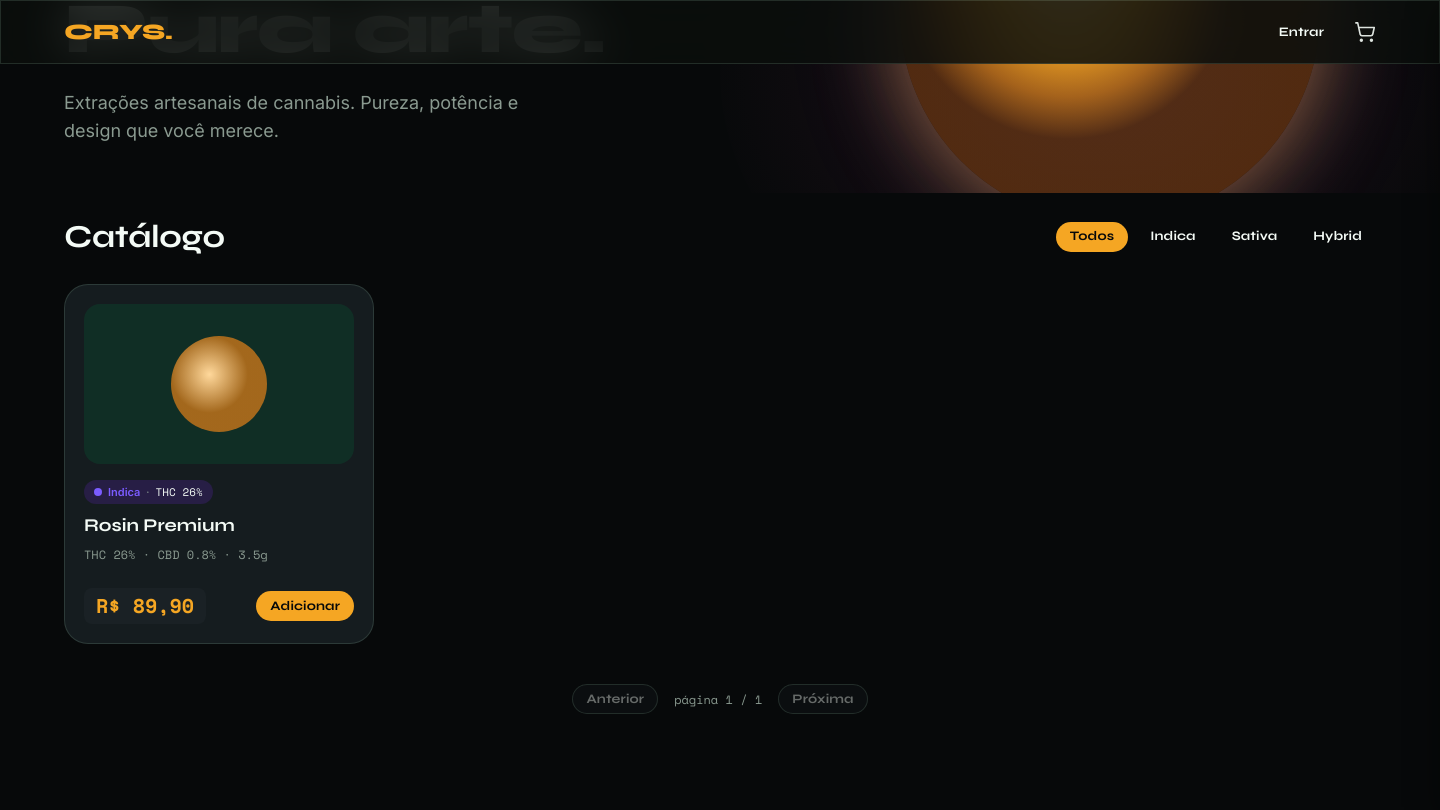
Test: storefront end-to-end (mocked API) › browses, logs in, checks out, and tracks an order to CONFIRMED
The image size is (1440, 810).
(page scrolled)
expect the text "Rosin Premium" is shown: met, box top-left (84, 514), bottom-right (235, 536)
// Add to cart.
Click the button "Adicionar".
click(305, 606)  # box top-left (256, 591), bottom-right (354, 621)
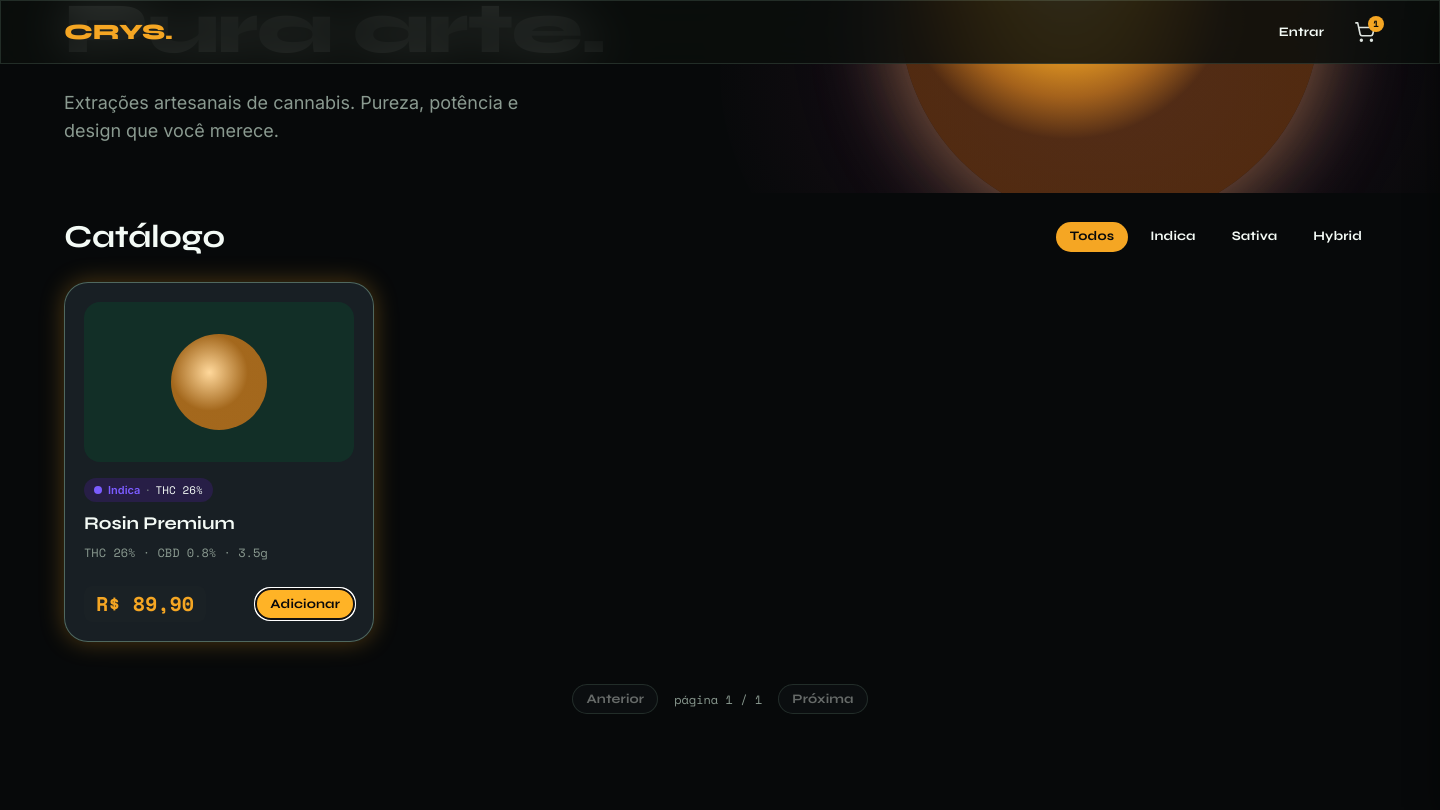
// Log in (demo).
Click the button "Entrar".
click(1301, 32)  # box top-left (1265, 17), bottom-right (1338, 47)
(page scrolled)
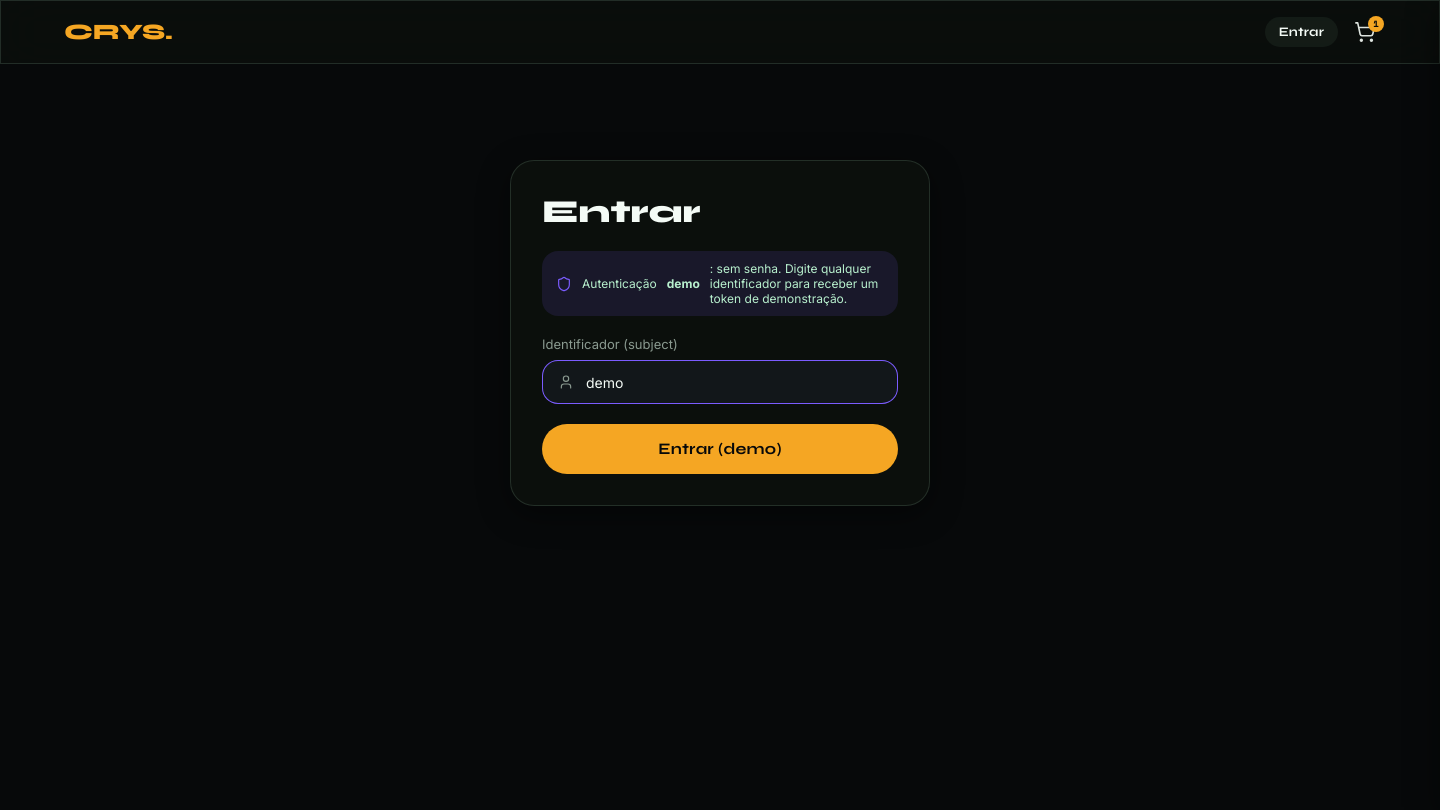
expect the heading "Entrar" is shown: met, box top-left (542, 192), bottom-right (701, 231)
Click the button "Entrar (demo)".
click(720, 449)  # box top-left (542, 424), bottom-right (898, 474)
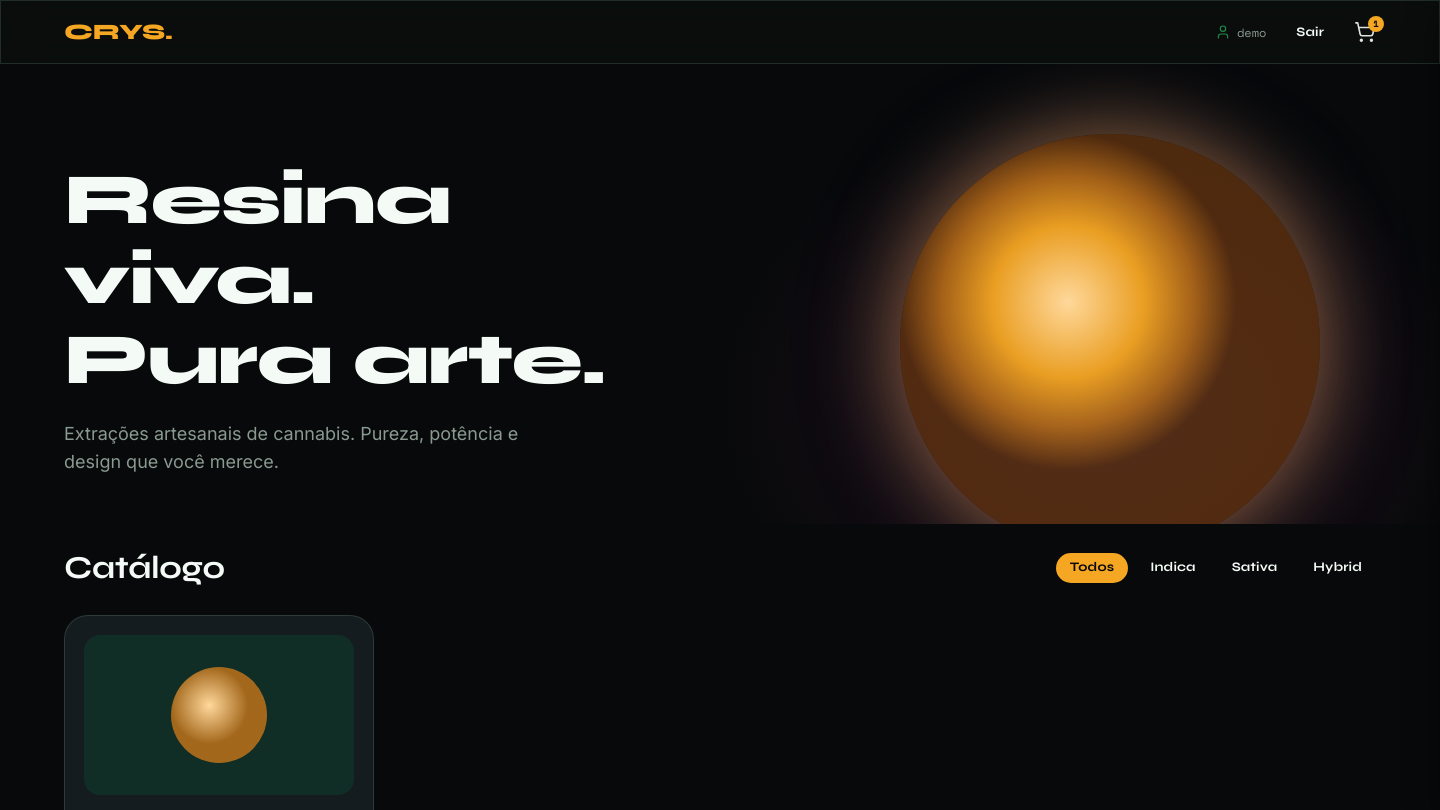
Click the button named "Carrinho".
click(1365, 32)  # box top-left (1354, 21), bottom-right (1376, 43)
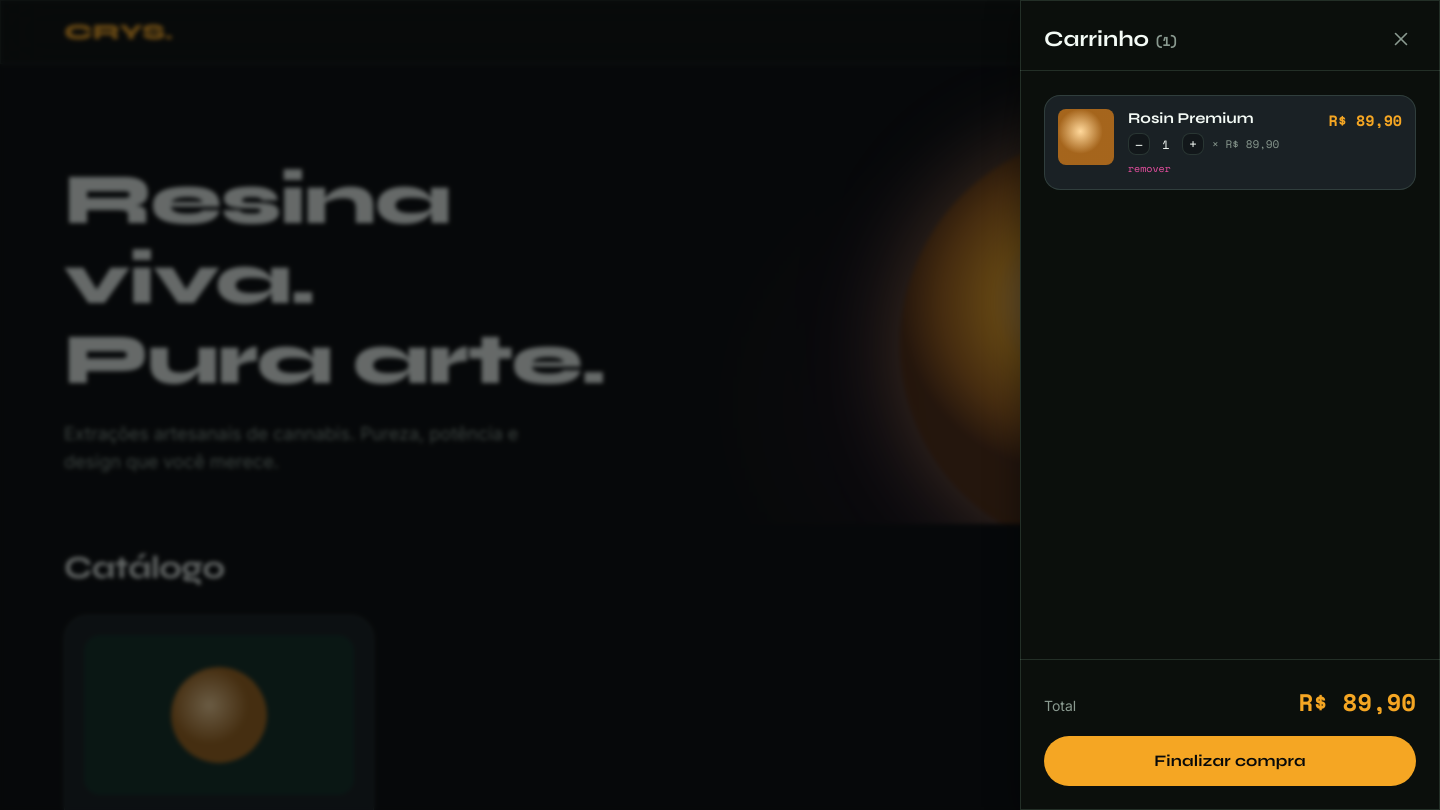
Click the button "Finalizar compra".
click(1230, 761)  # box top-left (1044, 736), bottom-right (1416, 786)
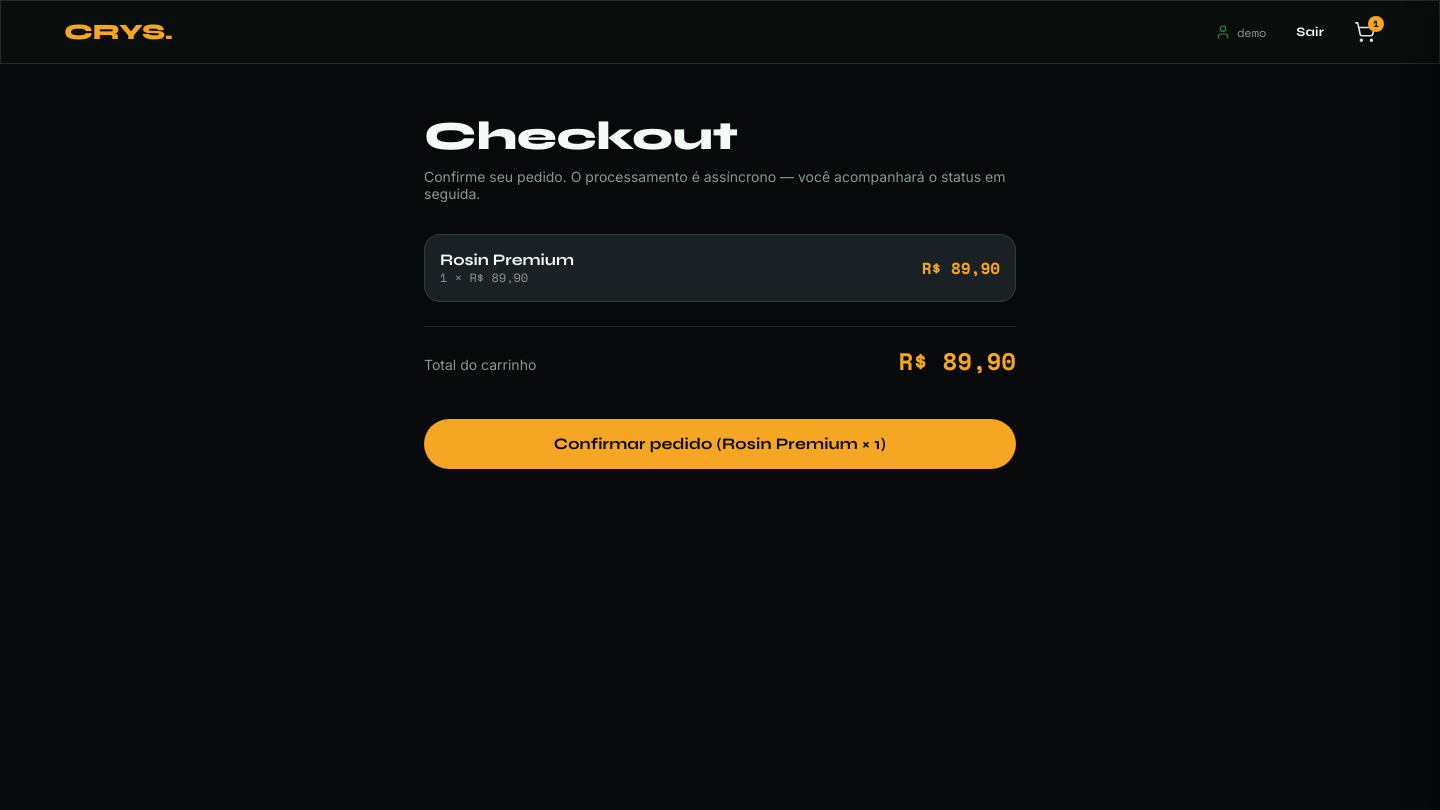
// Checkout page → confirm order.
Click the button "Confirmar pedido (Rosin Premium × 1)".
click(720, 444)  # box top-left (424, 419), bottom-right (1016, 469)
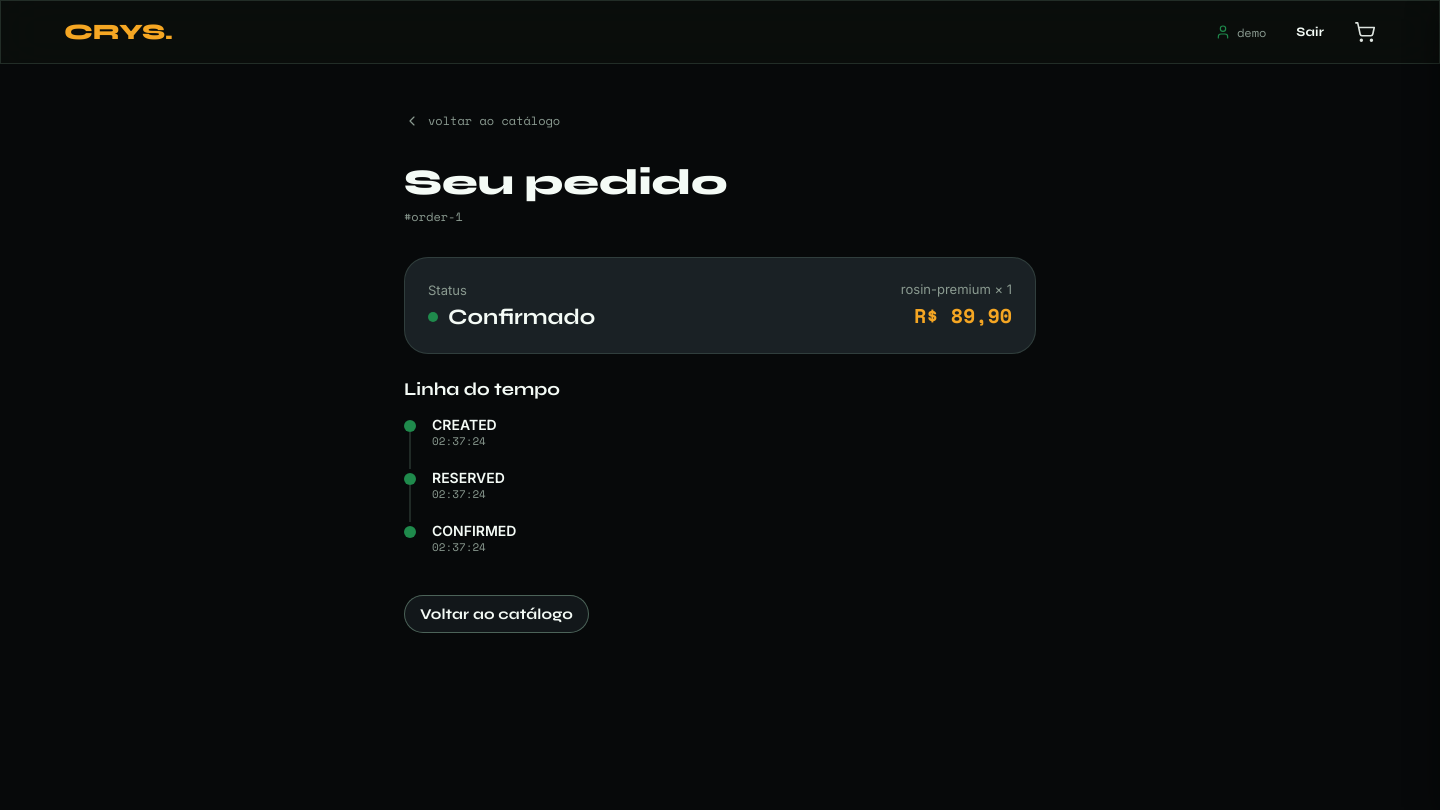
expect the text "Confirmado" is shown: met, box top-left (448, 304), bottom-right (595, 330)
expect the text "CONFIRMED" is shown: met, box top-left (432, 522), bottom-right (516, 539)
